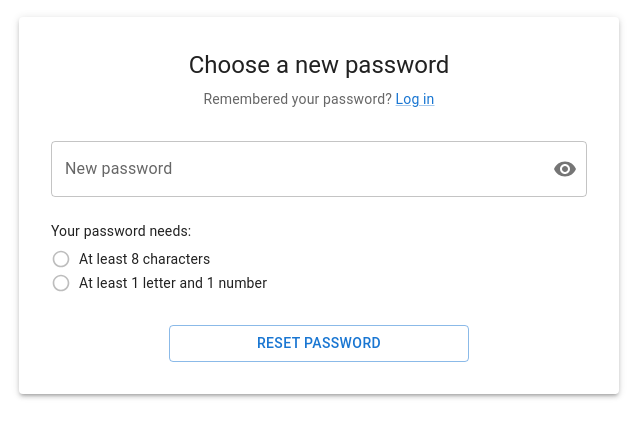
ResetPasswordPage › shows the reason the backend rejected the password
This screenshot has width=639, height=444.
Type "newpass123" into the password field labelled "New password" at (294, 169), box [51,141,537,197]
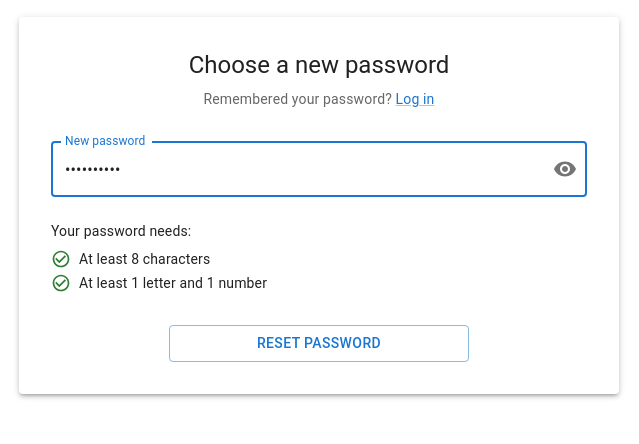
Click the button "Reset password" at (319, 344), box [169,326,469,362]
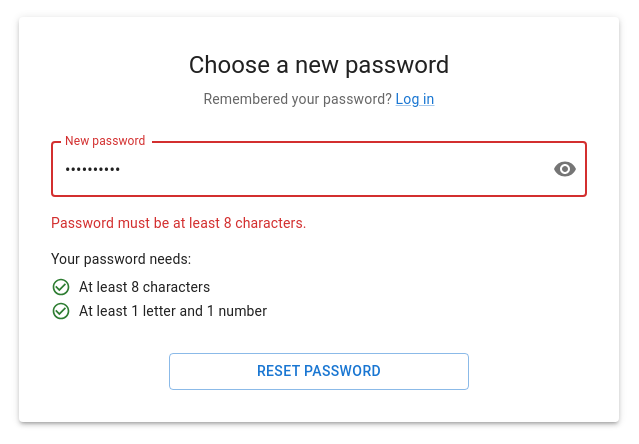
Expected: the message reads "Password must be at least 8 characters.", [51,215,307,231]
